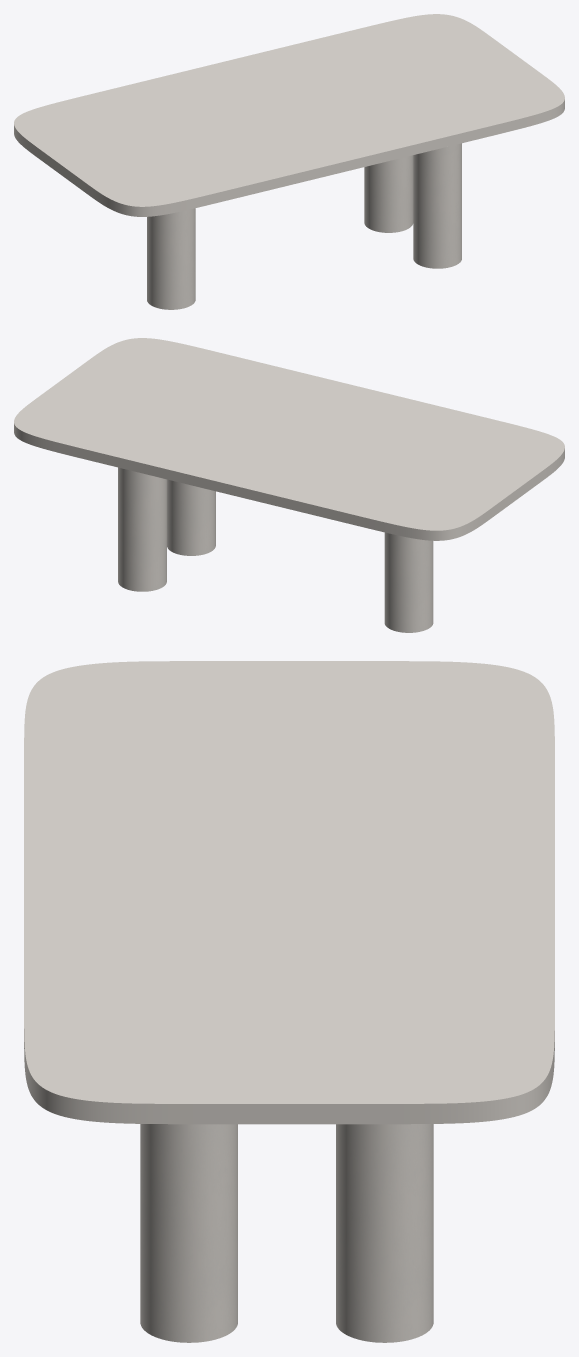
The model's file is pearlwhite_softrecta_standard_cylinder.glb.
The picture shows the model from 3 angles, top to bottom: view 1: azimuth 30°, elevation 25°; view 2: azimuth 150°, elevation 25°; view 3: azimuth 270°, elevation 25°; orthographic projection. The views are drawn at different scales.
Parts seen in each view (by area): view 1: standard_softrecta, cylinder; view 2: standard_softrecta, cylinder; view 3: standard_softrecta, cylinder.
Boxes of the visible parts, bbox=[...] form: standard_softrecta: bbox=[14, 14, 564, 216]; cylinder: bbox=[147, 143, 461, 309]; standard_softrecta: bbox=[14, 338, 564, 540]; cylinder: bbox=[118, 467, 433, 632]; standard_softrecta: bbox=[24, 661, 554, 1124]; cylinder: bbox=[140, 1124, 433, 1342].
Size of the model in its own units: 7.5 by 2.52 by 3.8.
1 material, 1 textured.
